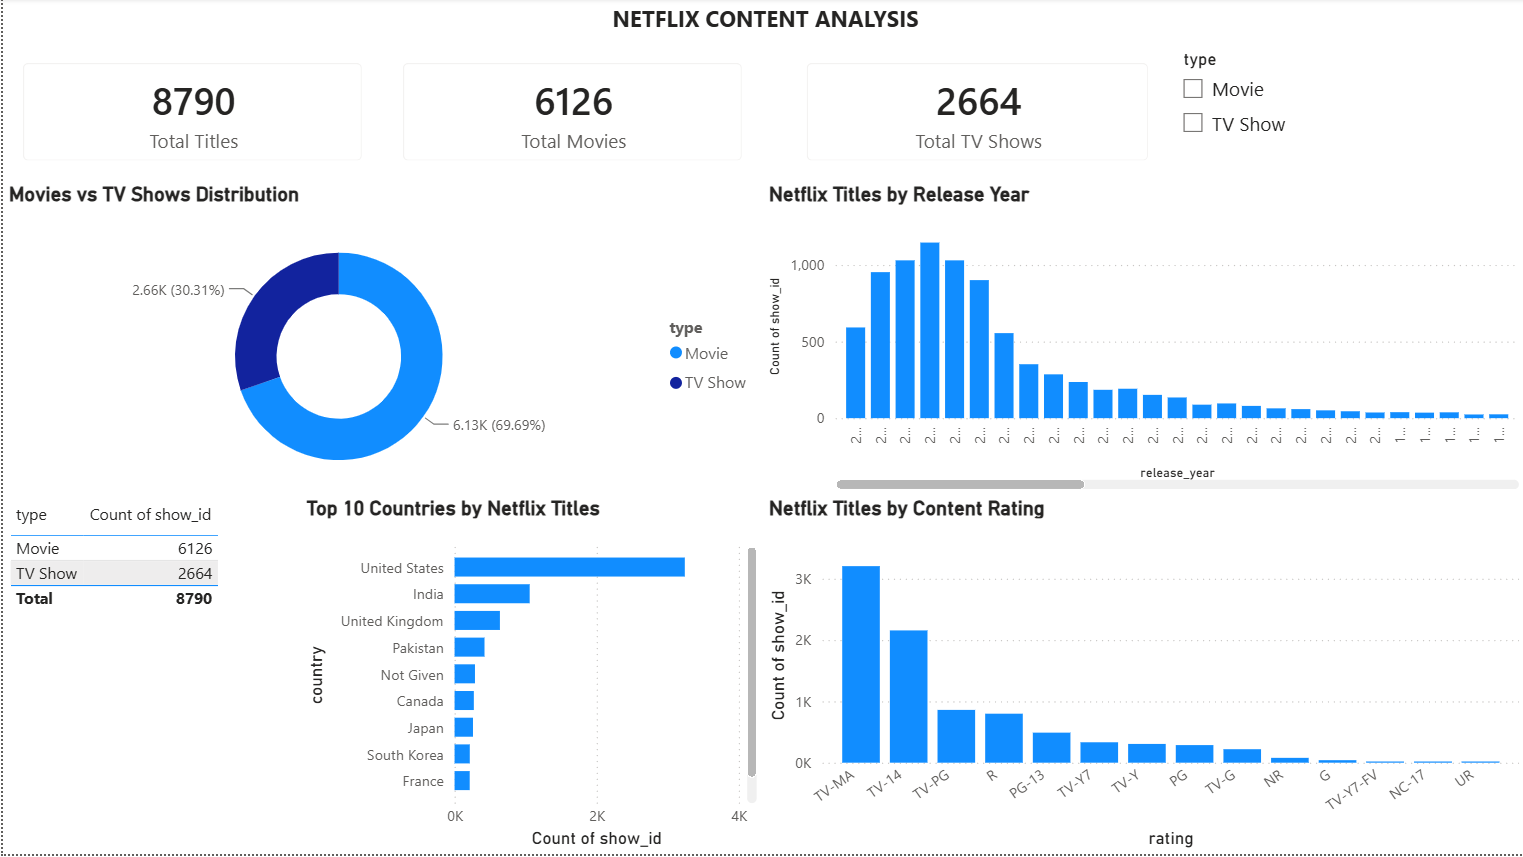

Layout of this report page (visuals, bound fields, positions):
{"tool":"powerbi","page":{"name":"Page 1","canvas":[1280,720],"ordinal":0},"visuals":[{"type":"cardVisual","fields":{"Data":["Dataset.Total Titles"]},"box":[0,37.9,319.7,117],"z":0},{"type":"cardVisual","fields":{"Data":["Dataset.Total Movies"]},"box":[319.7,37.9,319.7,117],"z":1000},{"type":"cardVisual","fields":{"Data":["Dataset.Total TV Shows"]},"box":[659.1,37.9,321.3,117],"z":2000},{"type":"tableEx","fields":{"Values":["Dataset.type","Dataset.show_id"]},"box":[0,418.5,250.5,301.5],"z":4000},{"type":"donutChart","title":"Movies vs TV Shows Distribution","fields":{"Category":["Dataset.type"],"Y":["CountNonNull(Dataset.show_id)"]},"box":[0,154.9,639.3,263.6],"z":5000},{"type":"clusteredColumnChart","title":"Netflix Titles by Release Year","fields":{"Category":["Dataset.release_year"],"Y":["CountNonNull(Dataset.show_id)"]},"box":[639.3,154.9,641,263.6],"z":6000},{"type":"slicer","fields":{"Values":["Dataset.type"]},"box":[980.4,37.9,299.9,117],"z":7000},{"type":"clusteredBarChart","title":"Top 10 Countries by Netflix Titles","fields":{"Category":["Dataset.country"],"Y":["CountNonNull(Dataset.show_id)"]},"box":[250.5,418.5,388.9,301.5],"z":8000},{"type":"clusteredColumnChart","title":"Netflix Titles by Content Rating","fields":{"Category":["Dataset.rating"],"Y":["CountNonNull(Dataset.show_id)"]},"box":[639.3,418.5,641,301.5],"z":9000},{"type":"textbox","box":[100.5,0,1081,37.9],"z":10000}]}

Visuals, with their boxes in screenshot pixels (x1, y1, x2, y2), scaled from the page's 1280x720 canvas onto the 1523x857 screenshot:
cardVisual - Dataset.Total Titles: 0, 45, 380, 184
cardVisual - Dataset.Total Movies: 380, 45, 761, 184
cardVisual - Dataset.Total TV Shows: 784, 45, 1167, 184
tableEx - Dataset.type x Dataset.show_id: 0, 498, 298, 856
"Movies vs TV Shows Distribution" donutChart: 0, 184, 761, 498
"Netflix Titles by Release Year" clusteredColumnChart: 761, 184, 1522, 498
slicer - Dataset.type: 1167, 45, 1522, 184
"Top 10 Countries by Netflix Titles" clusteredBarChart: 298, 498, 761, 856
"Netflix Titles by Content Rating" clusteredColumnChart: 761, 498, 1522, 856
textbox: 120, 0, 1406, 45
